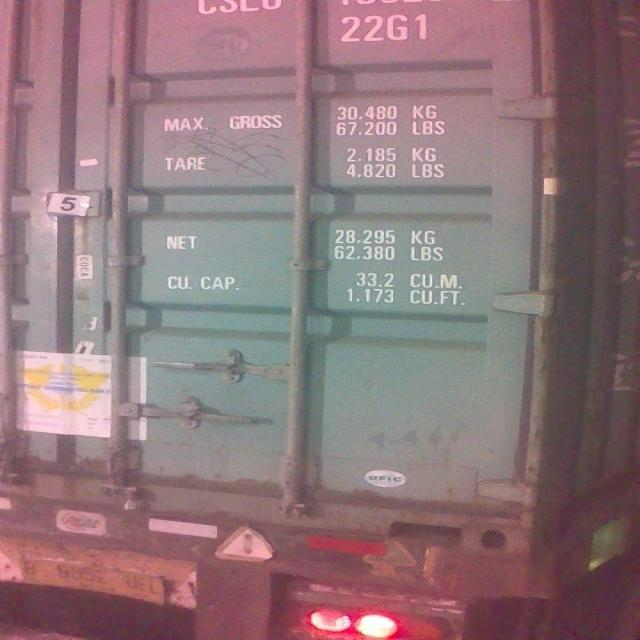seal: (121, 479, 145, 515)
